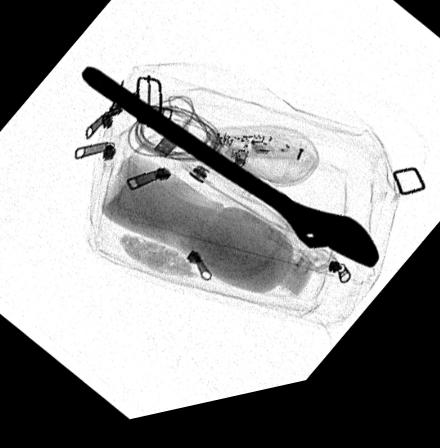Wrench: (78, 69, 381, 287)
